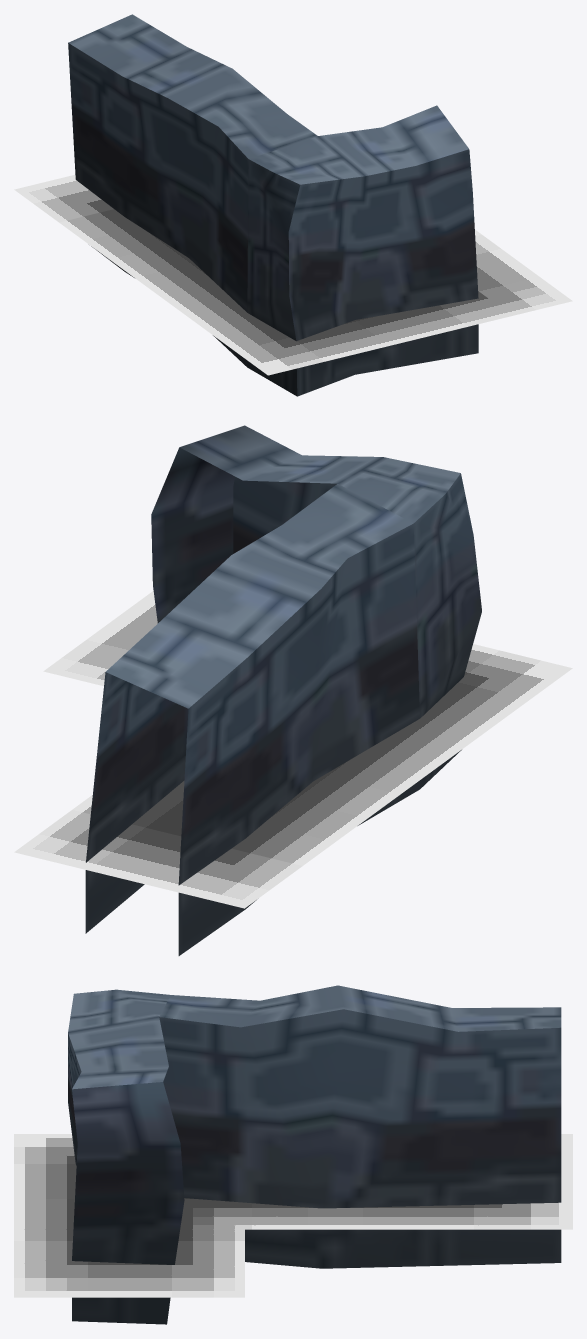
File: int_fence_07.dae
The picture shows the model from 3 angles, top to bottom: view 1: azimuth 30°, elevation 25°; view 2: azimuth 150°, elevation 25°; view 3: azimuth 270°, elevation 25°; orthographic projection. The views are drawn at different scales.
Parts seen in each view (by area): view 1: int_fence_07; view 2: int_fence_07; view 3: int_fence_07.
Boxes of the visible parts, x1=… form: int_fence_07: x1=14, y1=14, x2=572, y2=396; int_fence_07: x1=14, y1=425, x2=572, y2=955; int_fence_07: x1=14, y1=985, x2=572, y2=1324.
Size of the model in its own units: 41.23 by 28.94 by 59.5.
Materials: 2 (2 with a texture image).
